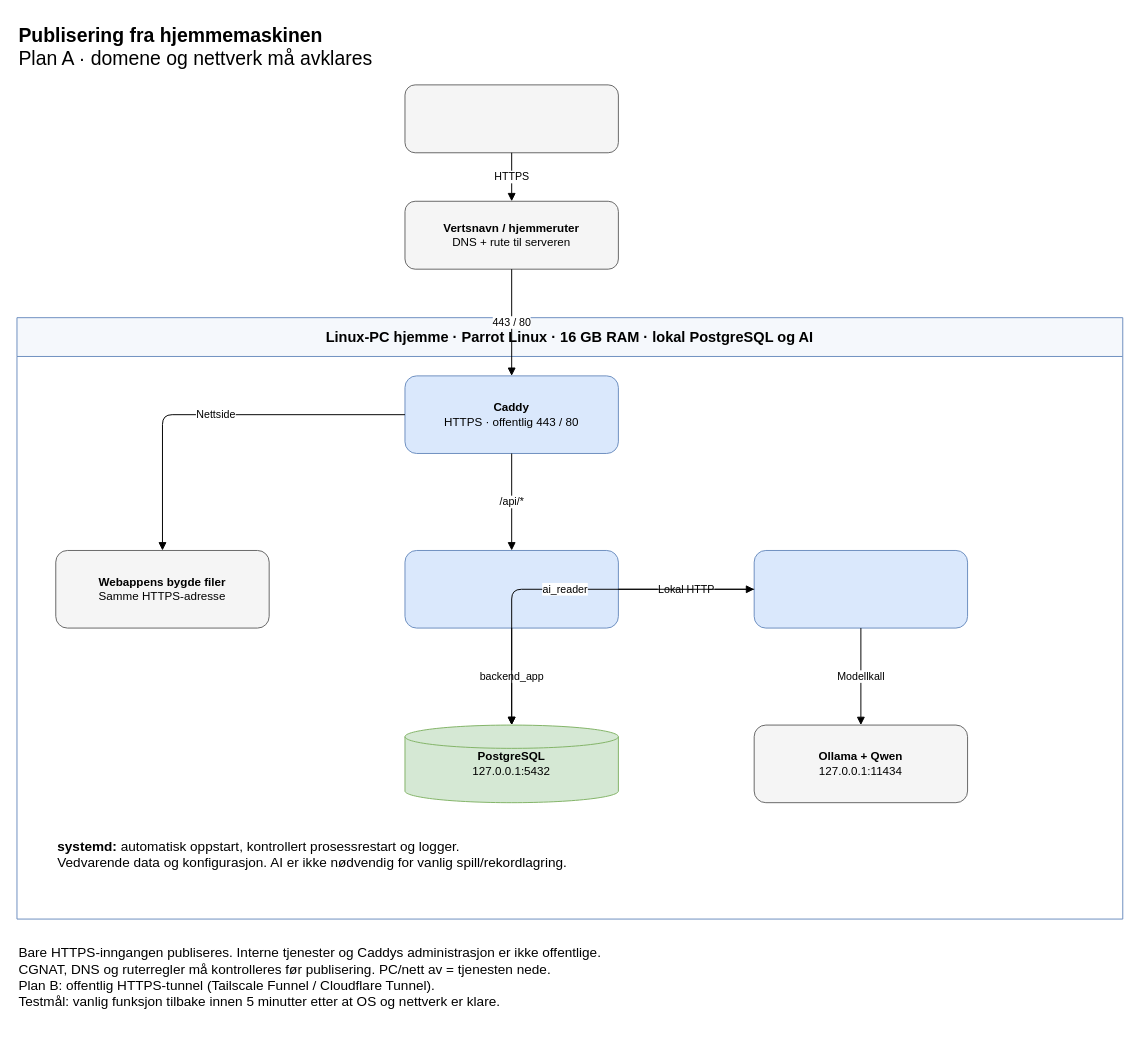
The diagram is 1140 pixels wide and 1042 high, and some of its shapes have lost their labels. The shapes that lost their labels are listed below. From the top down, each one's centre as x and y in pixels, then its label:
At [511,118]: "Spillerens nettleser Ute på internett".
At [511,589]: "Backend API 127.0.0.1:8000 /api/v1".
At [860,589]: "AI-tjeneste Lokal port, foreslått 8001".
